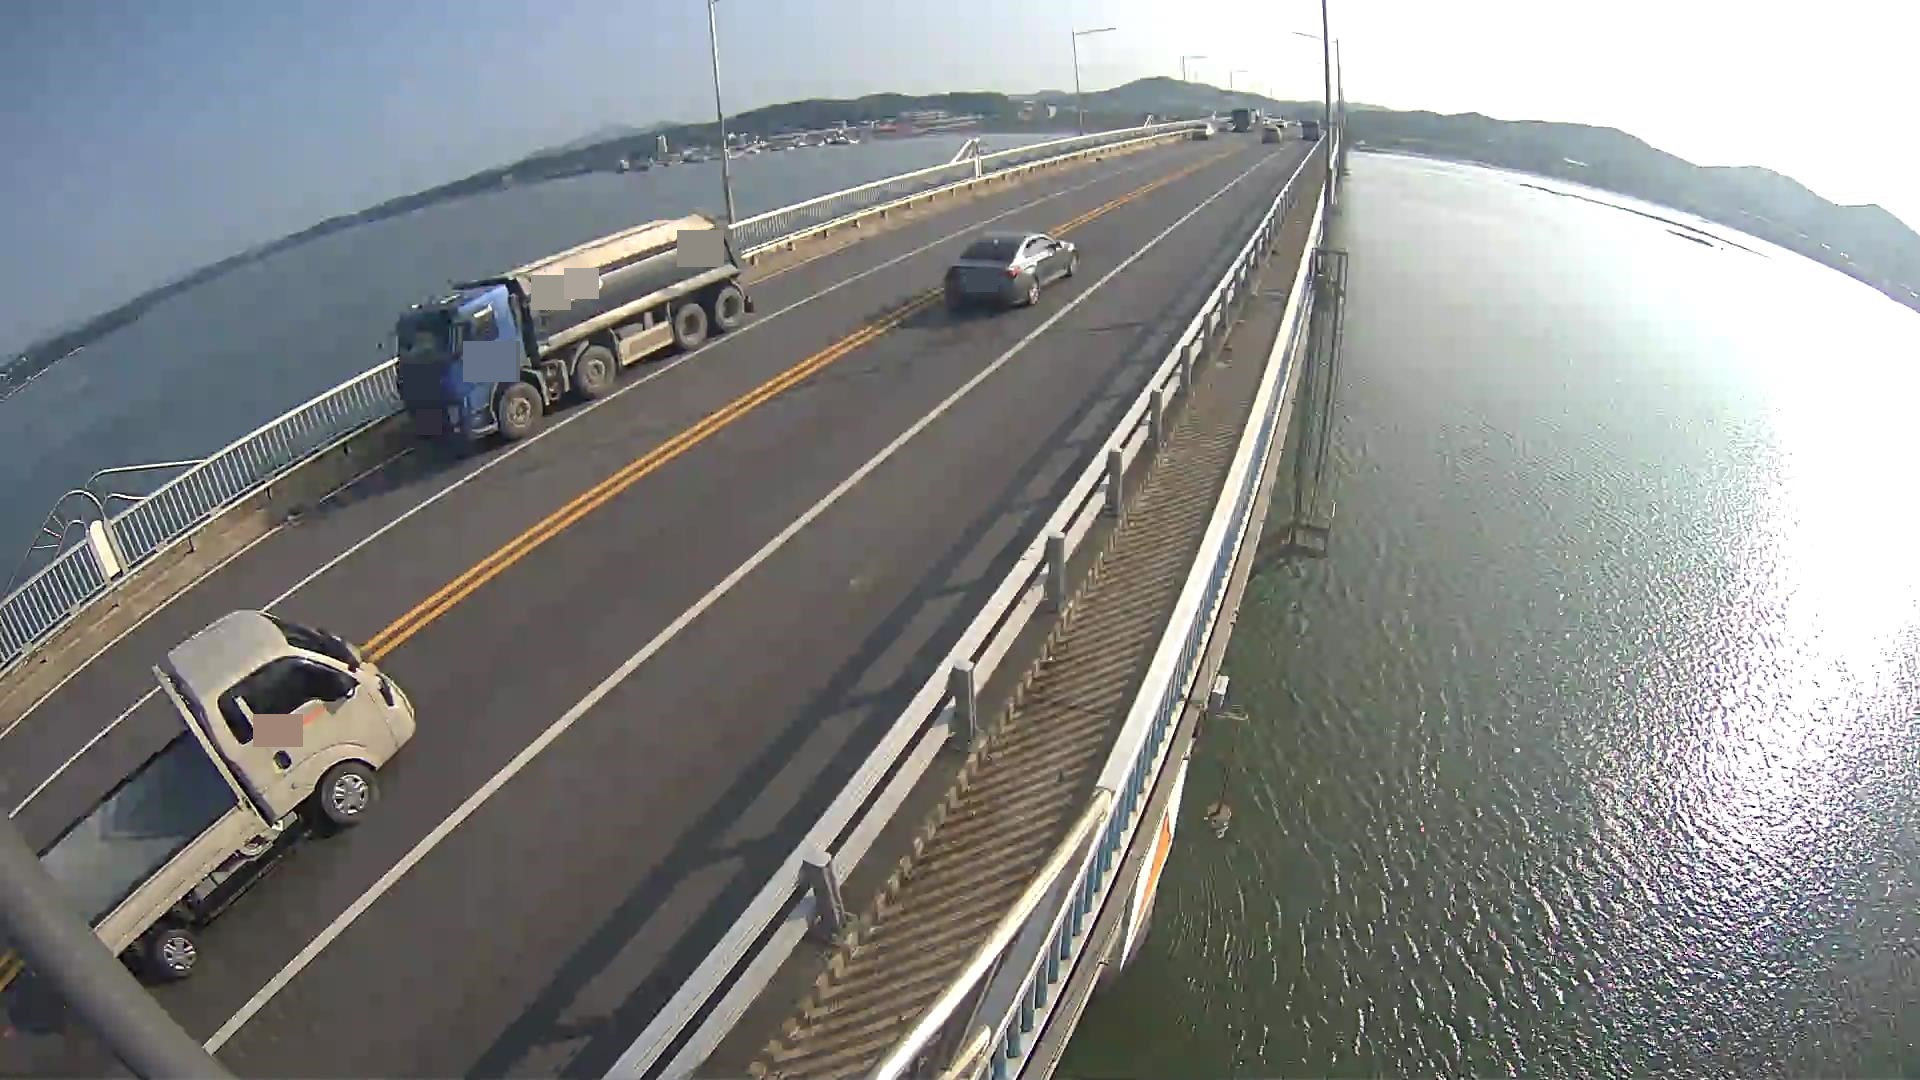정상차량: (377, 214, 754, 438)
